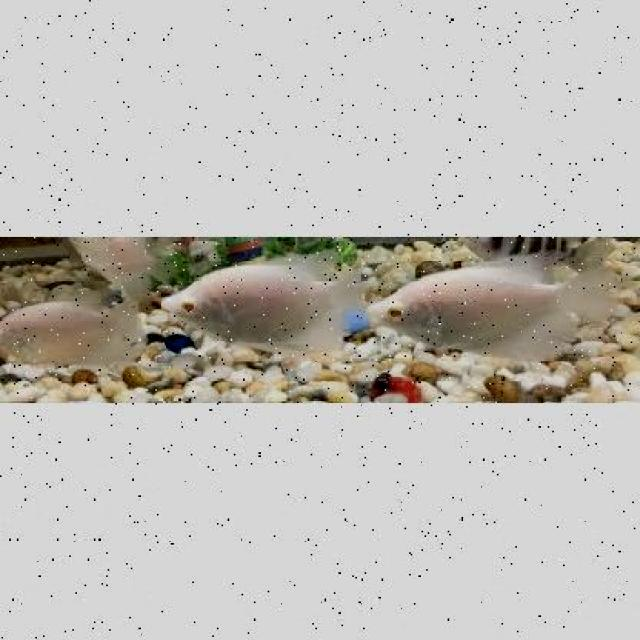gurame: (378, 246, 616, 362), (162, 246, 368, 363), (0, 292, 138, 375)
